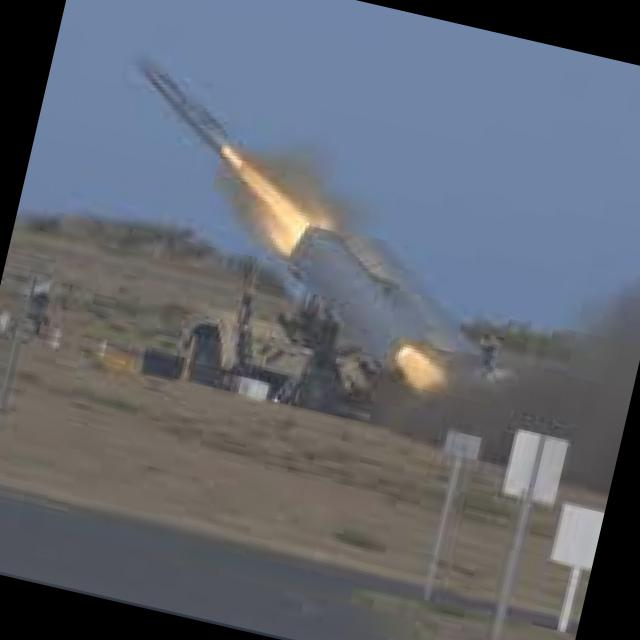rocket: (84, 52, 473, 386)
